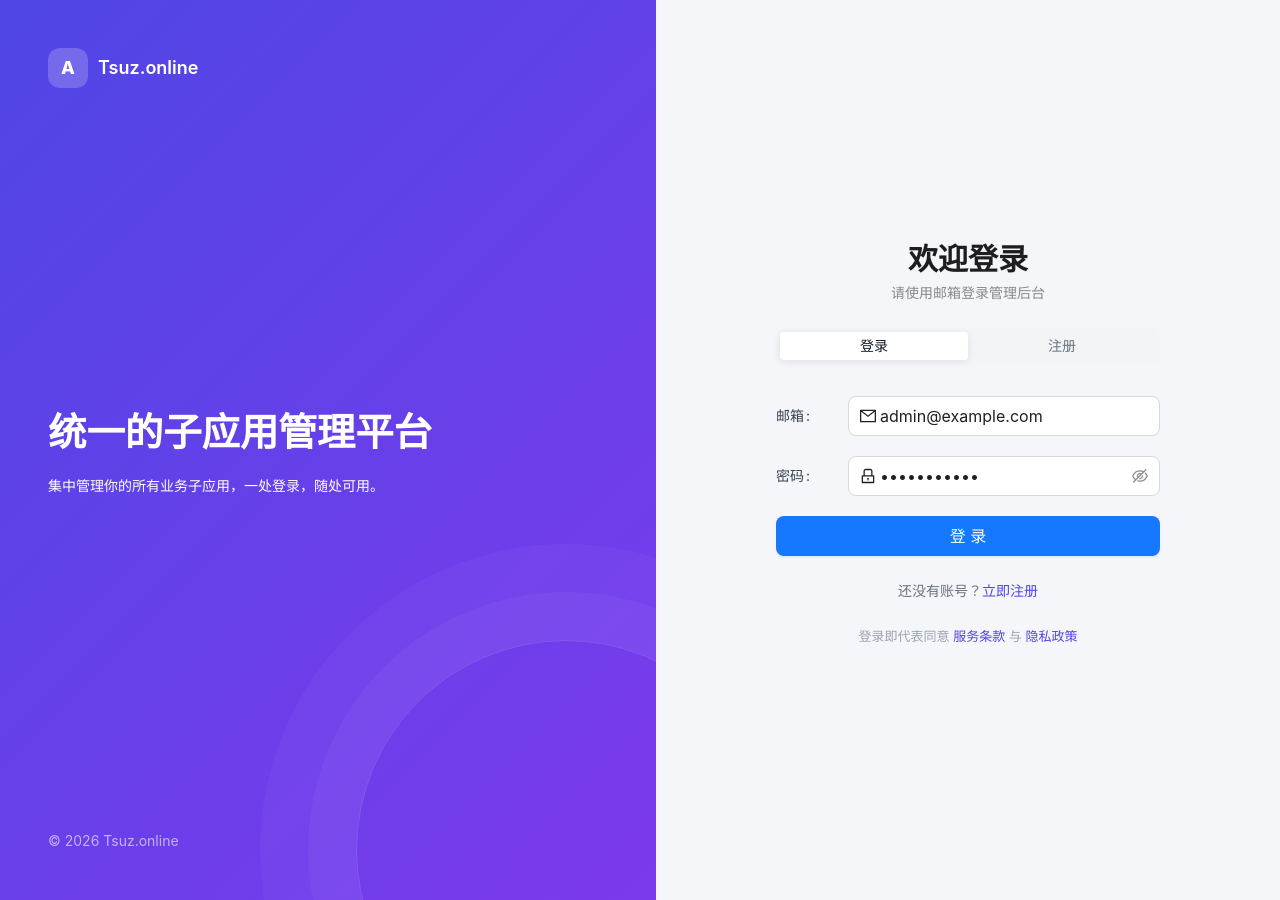
LoginPage › switches to the registration form without submitting login
Click the text "注册".
click(1062, 346)  # box [1048,337,1076,354]
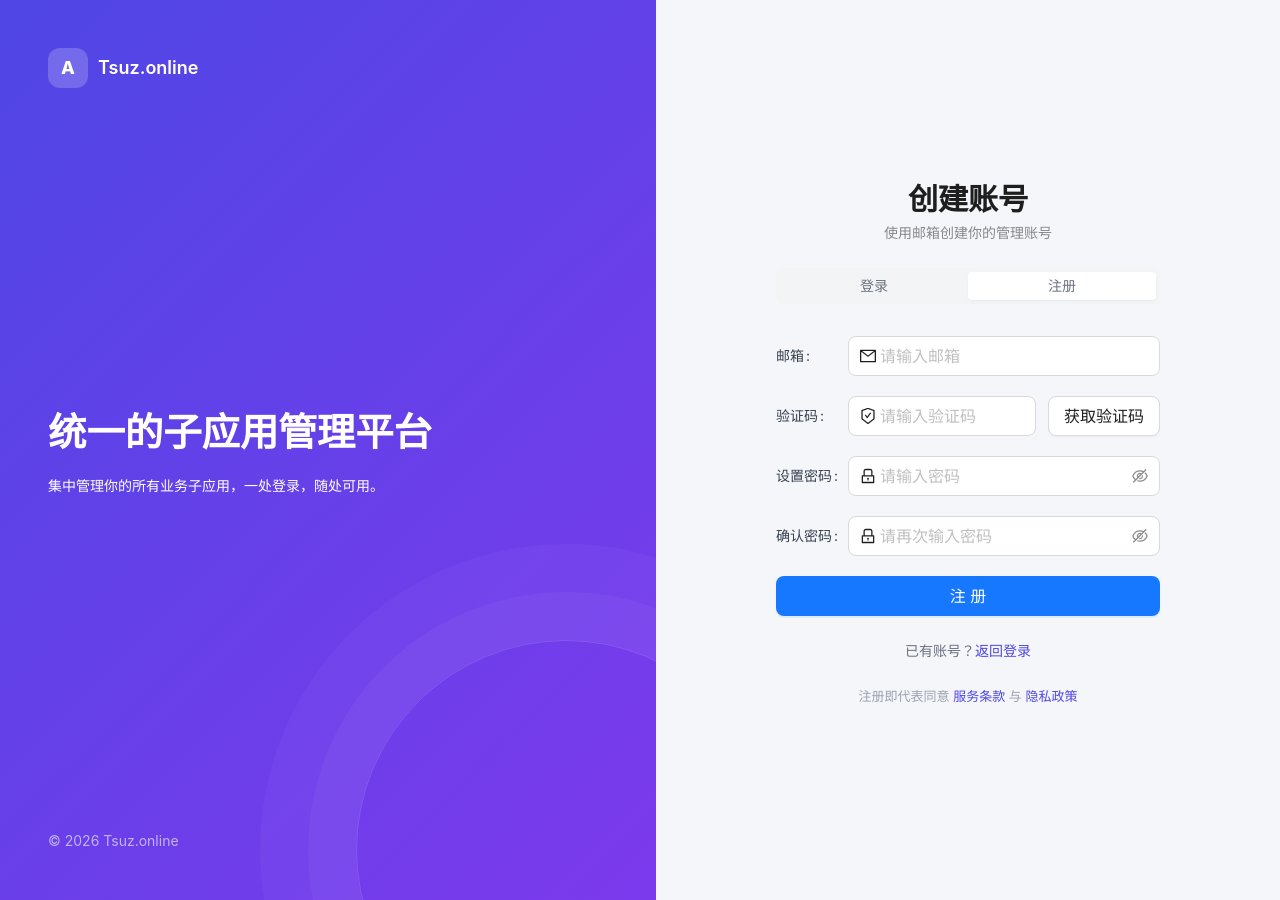
Expected: the heading "创建账号" is shown, [908,181,1028,217]
Expected: the field labelled "邮箱" is empty, [880,344,1148,368]
Expected: the field labelled "验证码" is shown, [880,404,1024,428]
